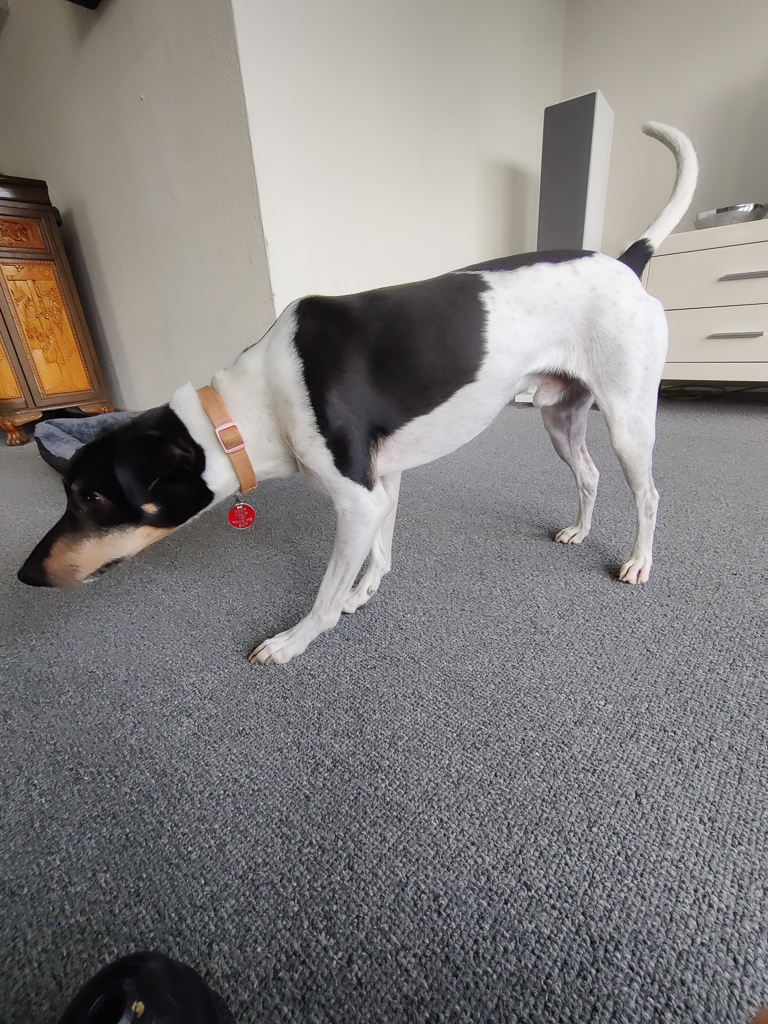Dog: (2, 110, 715, 670)
